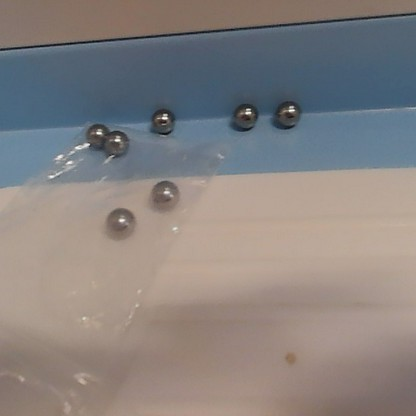ironball: (146, 177, 180, 211), (270, 96, 305, 129), (104, 206, 138, 238), (228, 101, 260, 132), (149, 105, 177, 136), (100, 129, 129, 156), (83, 123, 108, 148)
